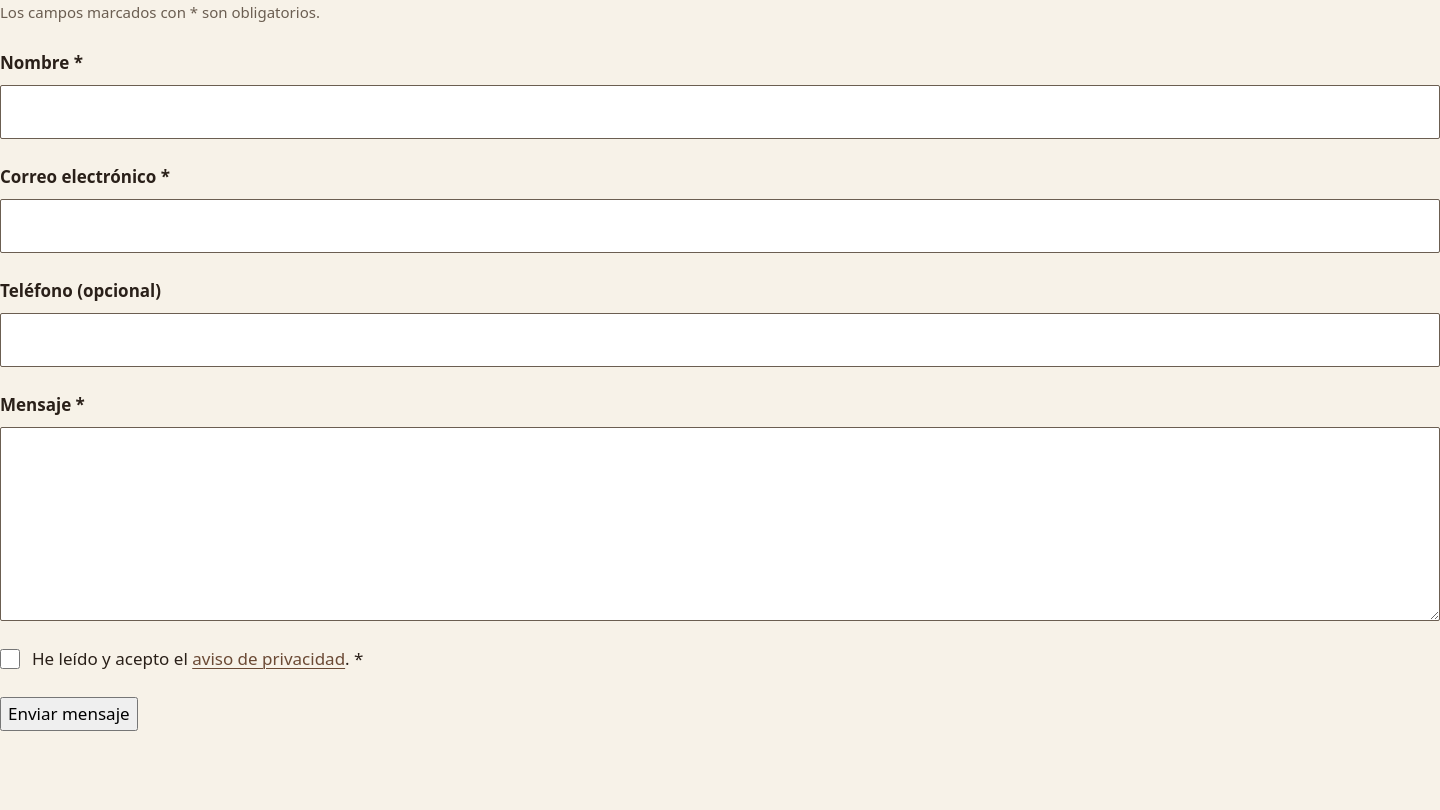
Test case: ContactForm › sends a valid message, confirms it, and clears the form
The image size is (1440, 810).
Type "María Pérez" into the field labelled "Nombre *" at (720, 112), box [0, 85, 1439, 139]
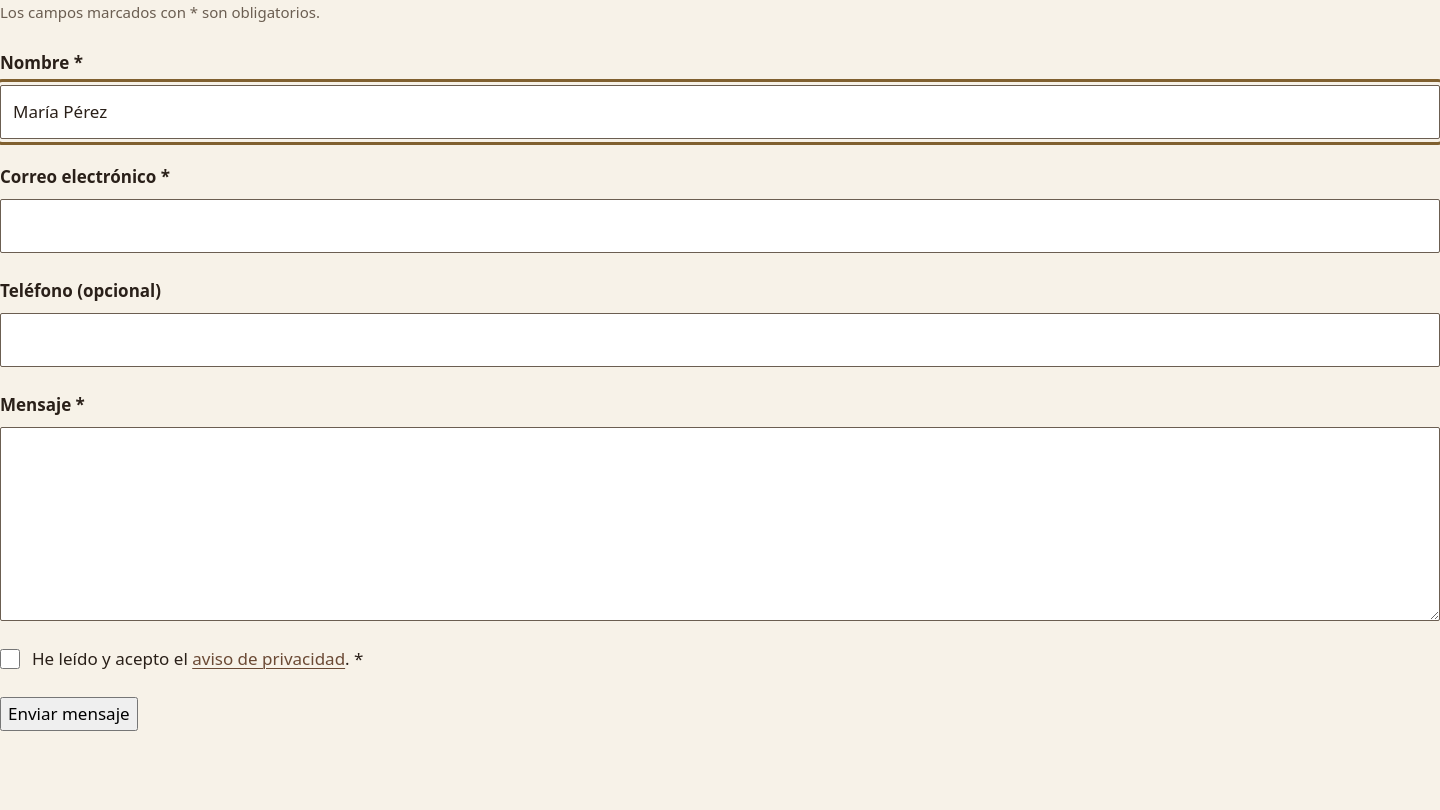
Type "maria@example.com" into the field labelled "Correo electrónico *" at (720, 226), box [0, 199, 1439, 253]
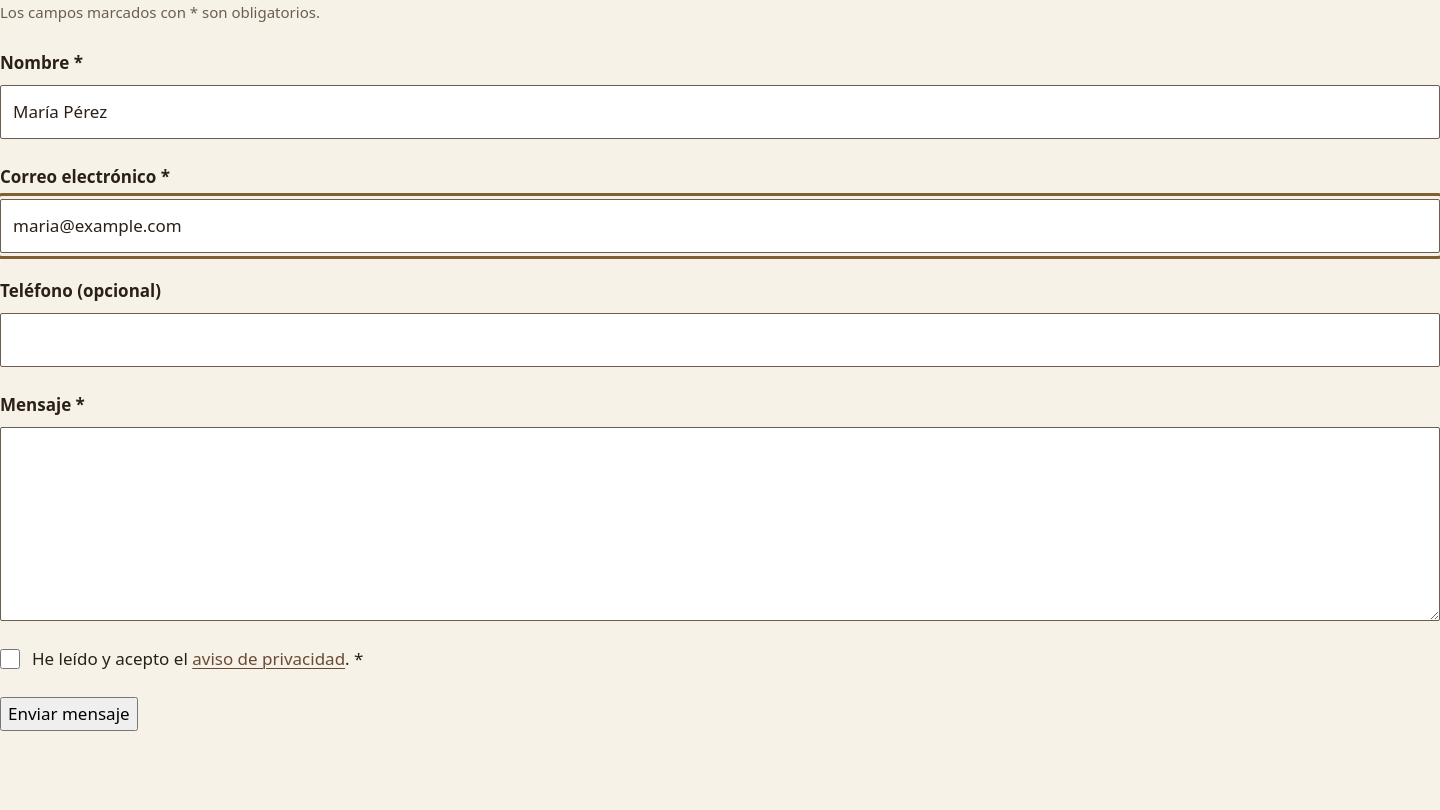
Type "Necesito una asesoría legal." into the text box labelled "Mensaje *" at (720, 524), box [0, 427, 1439, 621]
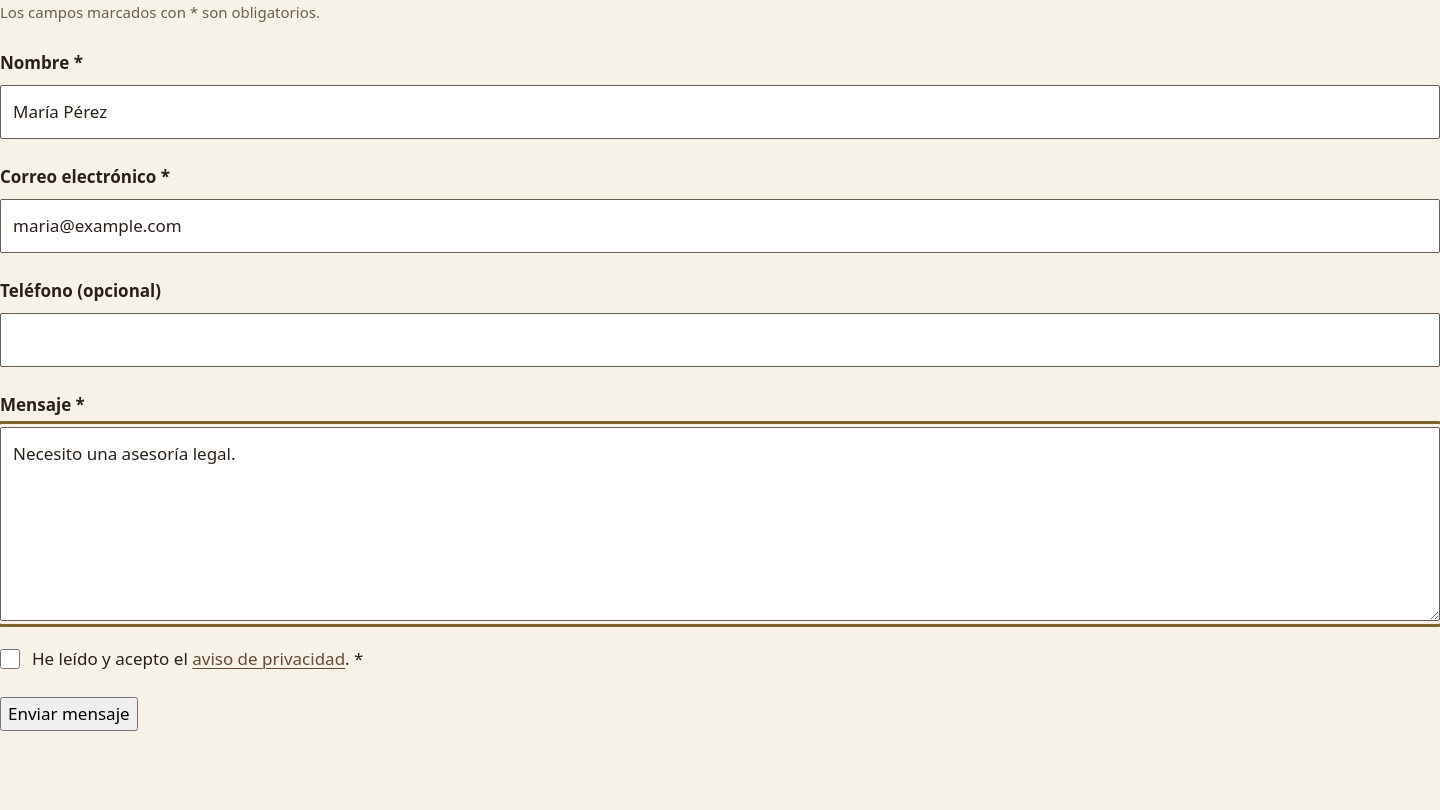
Click the checkbox labelled "He leído y acepto el aviso de privacidad . *" at (10, 658), box [0, 648, 20, 668]
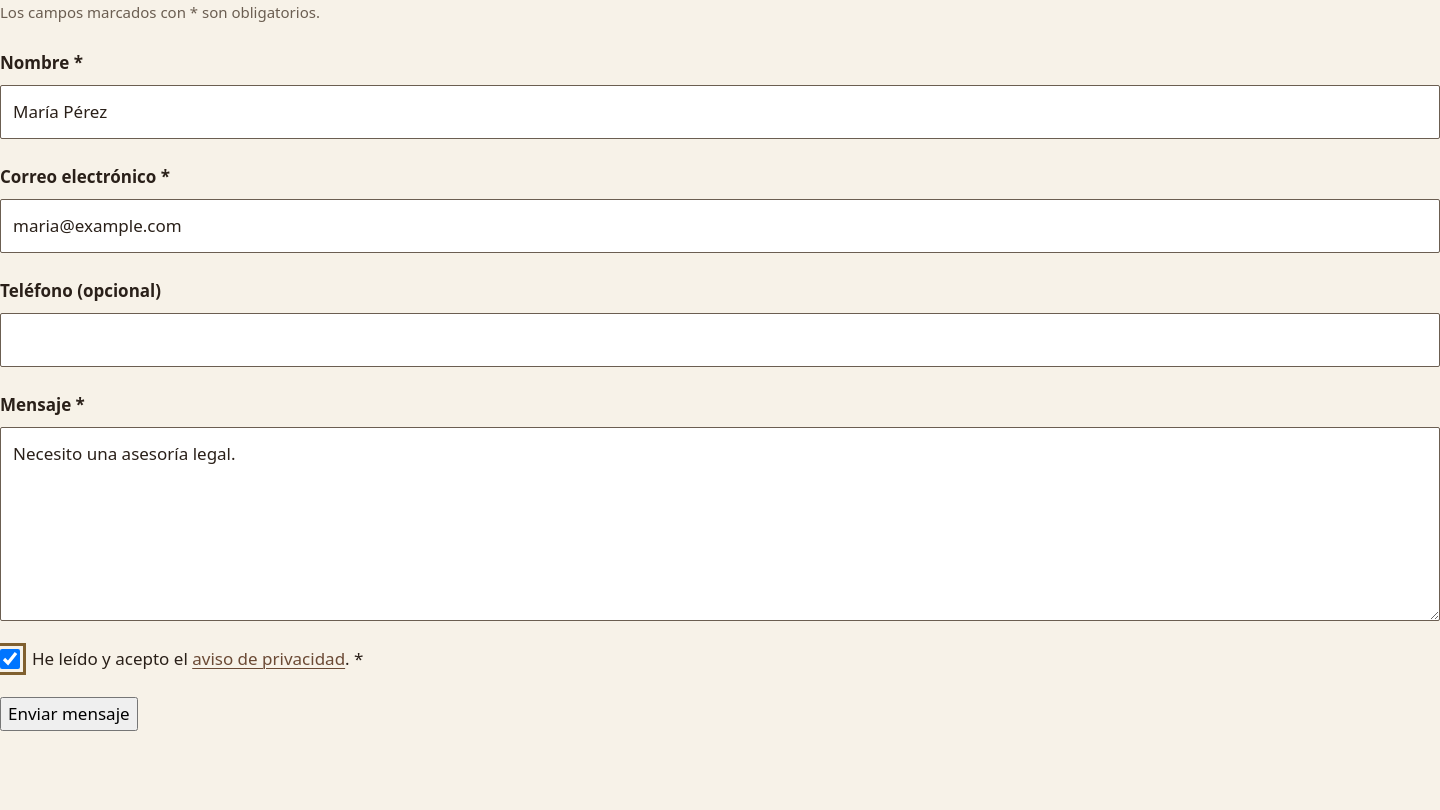
Click the button "Enviar mensaje" at (69, 714), box [0, 697, 138, 731]
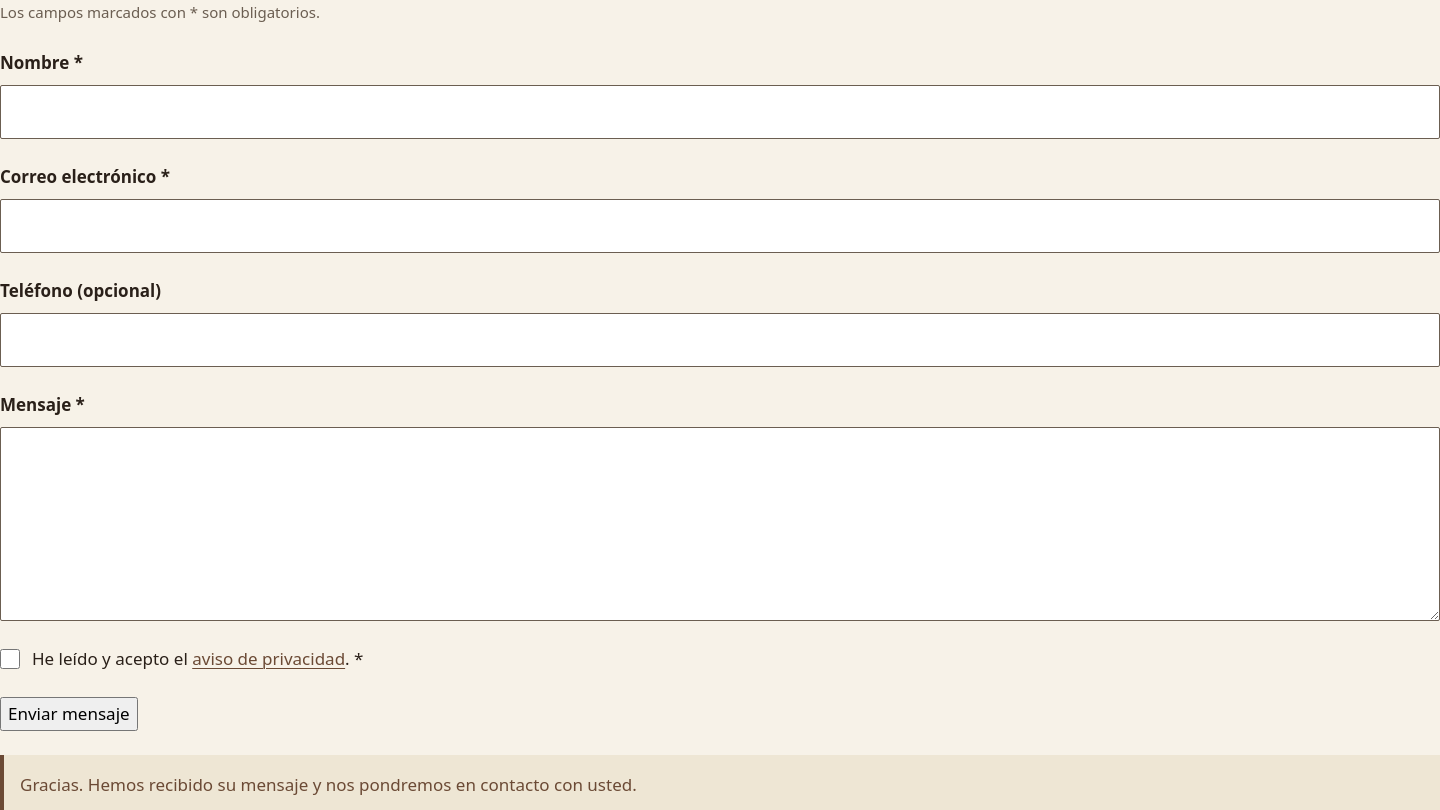
Now the text "Hemos recibido su mensaje" is shown, box [20, 774, 637, 796]
Now the field labelled "Nombre *" is empty, box [0, 85, 1439, 139]
